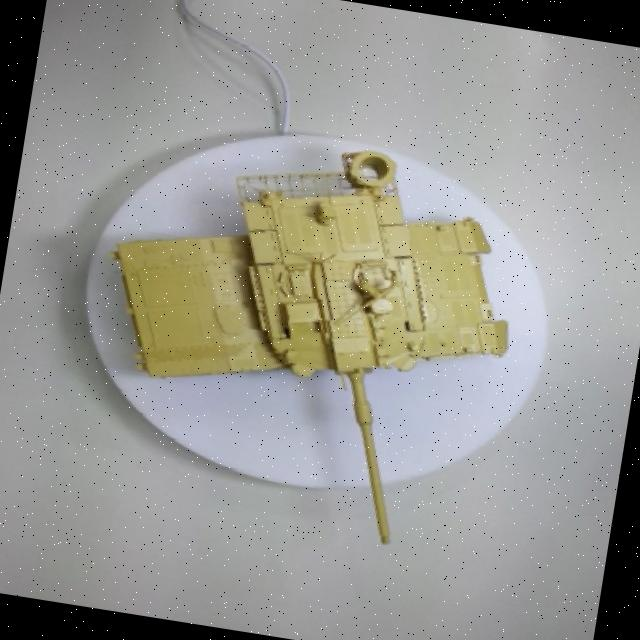korea tank: (72, 115, 564, 599)
